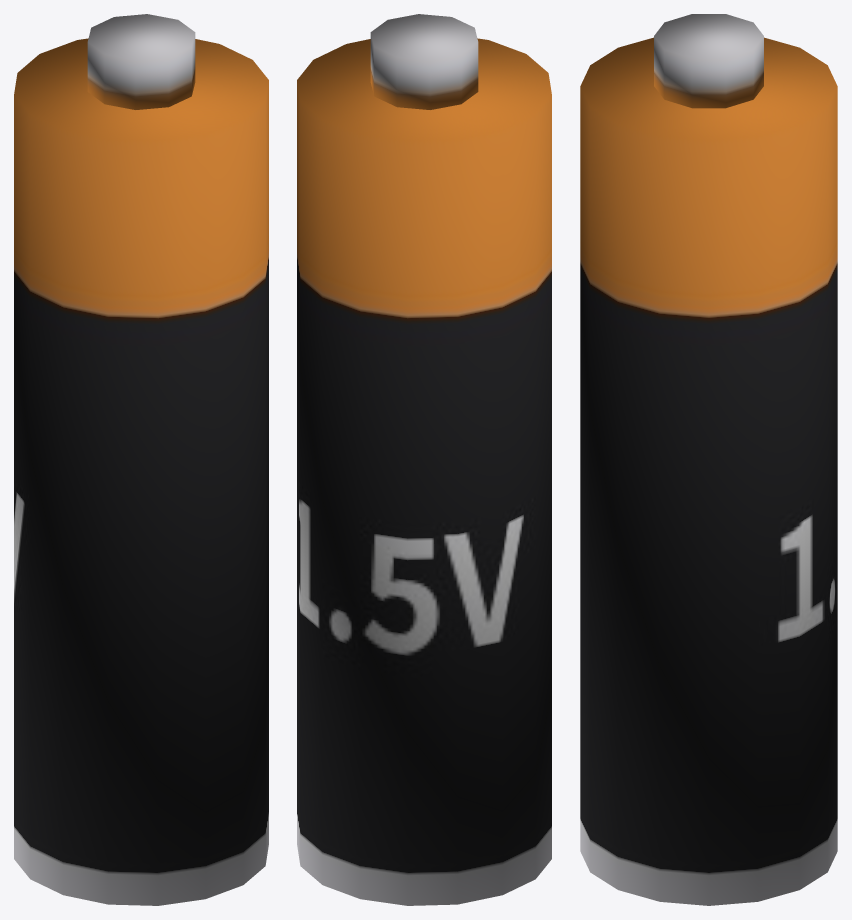
Rendered from pila.fbx.
3 views of the same model, side by side, from view 1: azimuth 30°, elevation 25°; view 2: azimuth 150°, elevation 25°; view 3: azimuth 270°, elevation 25° (orthographic).
Visible parts, largest first — view 1: pila; view 2: pila; view 3: pila.
Part boxes in pixels (x1=…): pila: x1=14, y1=14, x2=268, y2=905; pila: x1=297, y1=14, x2=551, y2=905; pila: x1=580, y1=14, x2=837, y2=905.
Bounding box in the file's own units: 0.0343 × 0.12 × 0.0343.
1 material, 1 textured.
